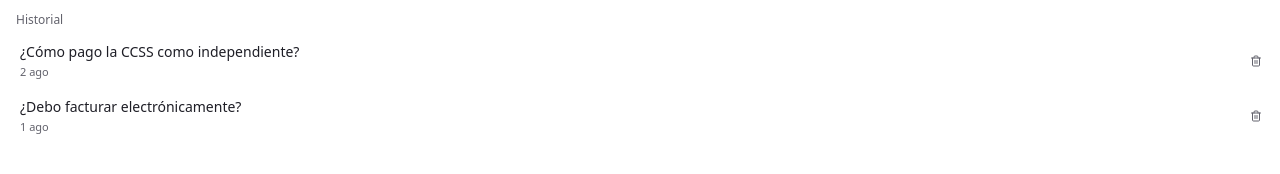
HistorySidebar › cancel backs out of the confirm step without deleting
Click the button named "Eliminar: ¿Debo facturar electrónicamente?".
click(1256, 116)  # box top-left (1244, 104), bottom-right (1268, 128)
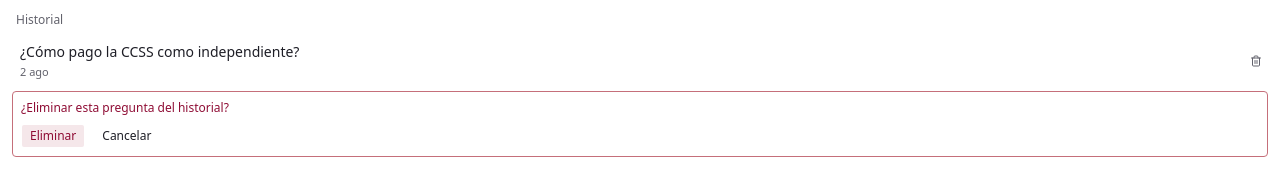
Click the button "Cancelar".
click(127, 136)  # box top-left (93, 124), bottom-right (160, 148)
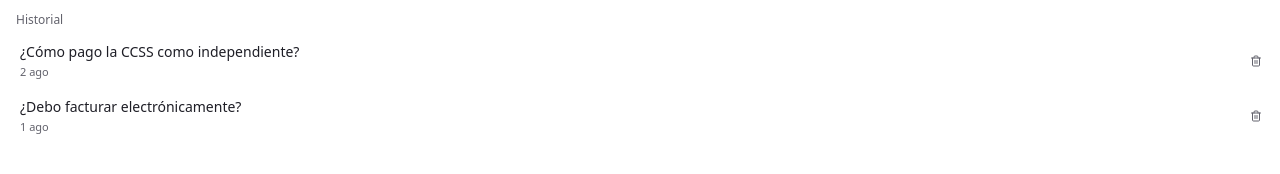
Now the text "¿Eliminar esta pregunta del historial?" is gone
Now the text "¿Debo facturar electrónicamente?" is shown, box top-left (20, 96), bottom-right (241, 116)
